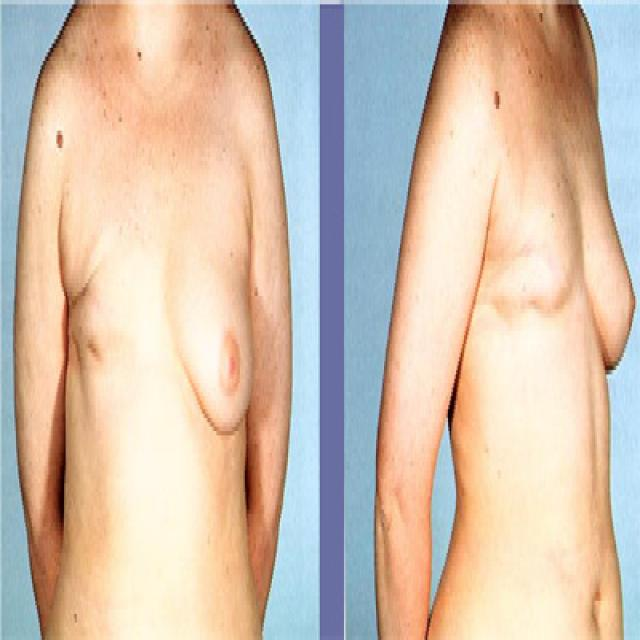Seno herido: (64, 174, 154, 438), (482, 110, 580, 350)
Seno ileso: (161, 174, 257, 463), (582, 105, 640, 405)
